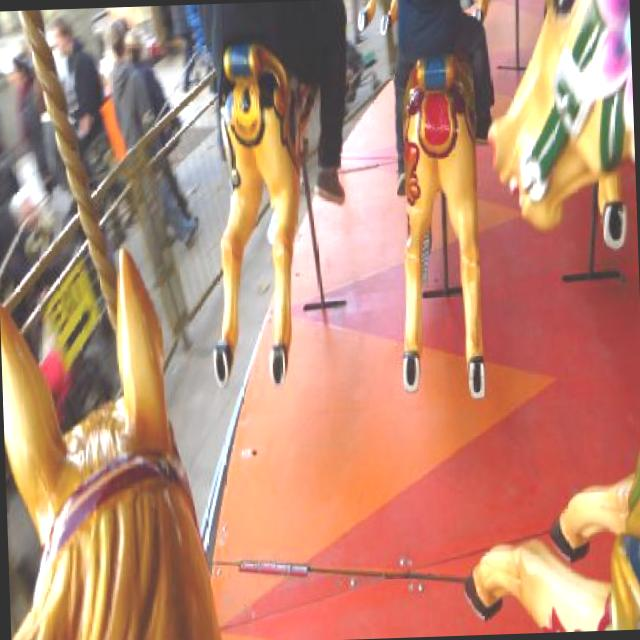Person: (196, 0, 357, 210), (387, 0, 500, 199), (108, 14, 190, 256)
